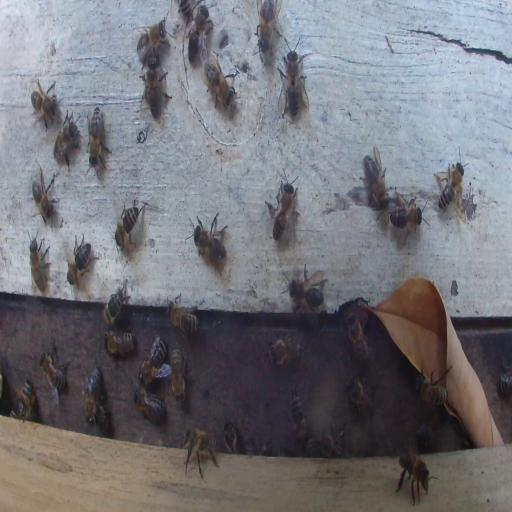bee: (276, 30, 310, 124), (266, 167, 300, 243), (188, 210, 230, 266), (287, 262, 329, 316), (181, 425, 219, 478), (138, 60, 172, 119), (396, 451, 433, 505), (434, 151, 465, 214), (85, 102, 110, 179), (203, 54, 236, 109), (390, 186, 422, 242), (30, 167, 60, 225), (29, 76, 60, 132), (362, 145, 389, 209), (53, 110, 81, 168), (184, 5, 212, 60), (394, 276, 432, 316), (66, 233, 94, 287), (39, 346, 68, 396), (167, 294, 199, 338), (28, 230, 50, 293), (114, 204, 144, 250), (266, 331, 303, 366), (136, 18, 168, 58), (345, 311, 370, 362), (416, 370, 448, 409), (139, 339, 168, 382), (102, 282, 129, 327), (133, 387, 166, 422), (346, 374, 374, 414), (256, 0, 278, 50), (83, 366, 102, 423), (104, 328, 136, 357), (14, 378, 36, 420), (170, 346, 186, 403), (290, 390, 306, 440), (320, 428, 344, 457), (416, 422, 432, 451), (223, 421, 237, 454), (94, 403, 109, 431), (500, 360, 511, 398), (304, 437, 322, 457)
